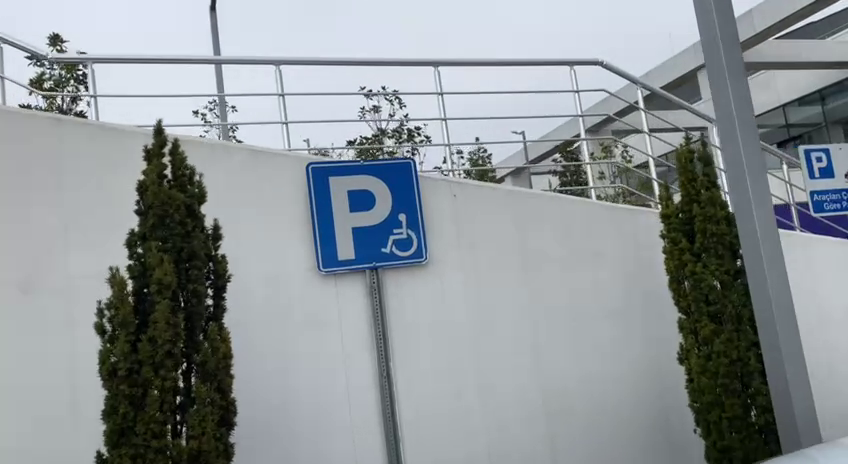parking: (304, 154, 430, 274), (800, 146, 837, 182)
